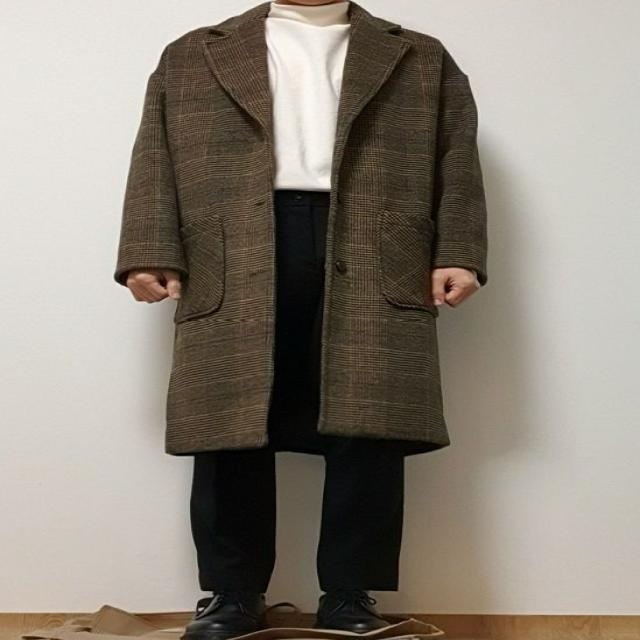coat: (112, 2, 482, 460)
slacks: (190, 187, 406, 595)
